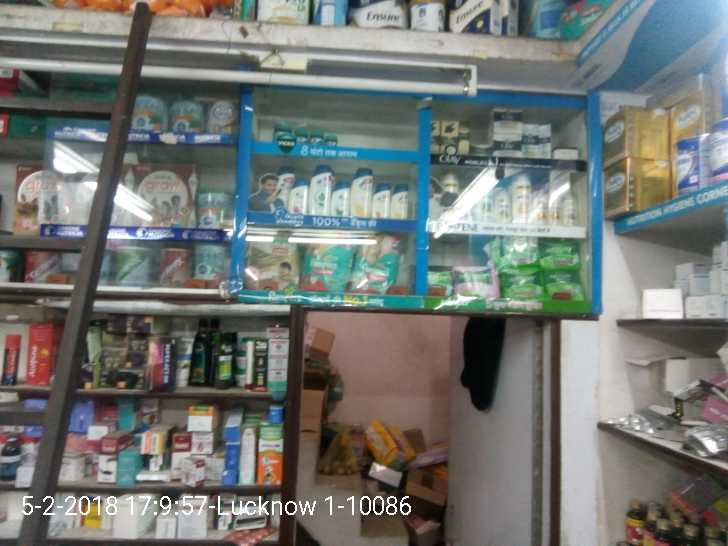vicks: (265, 119, 349, 152)
